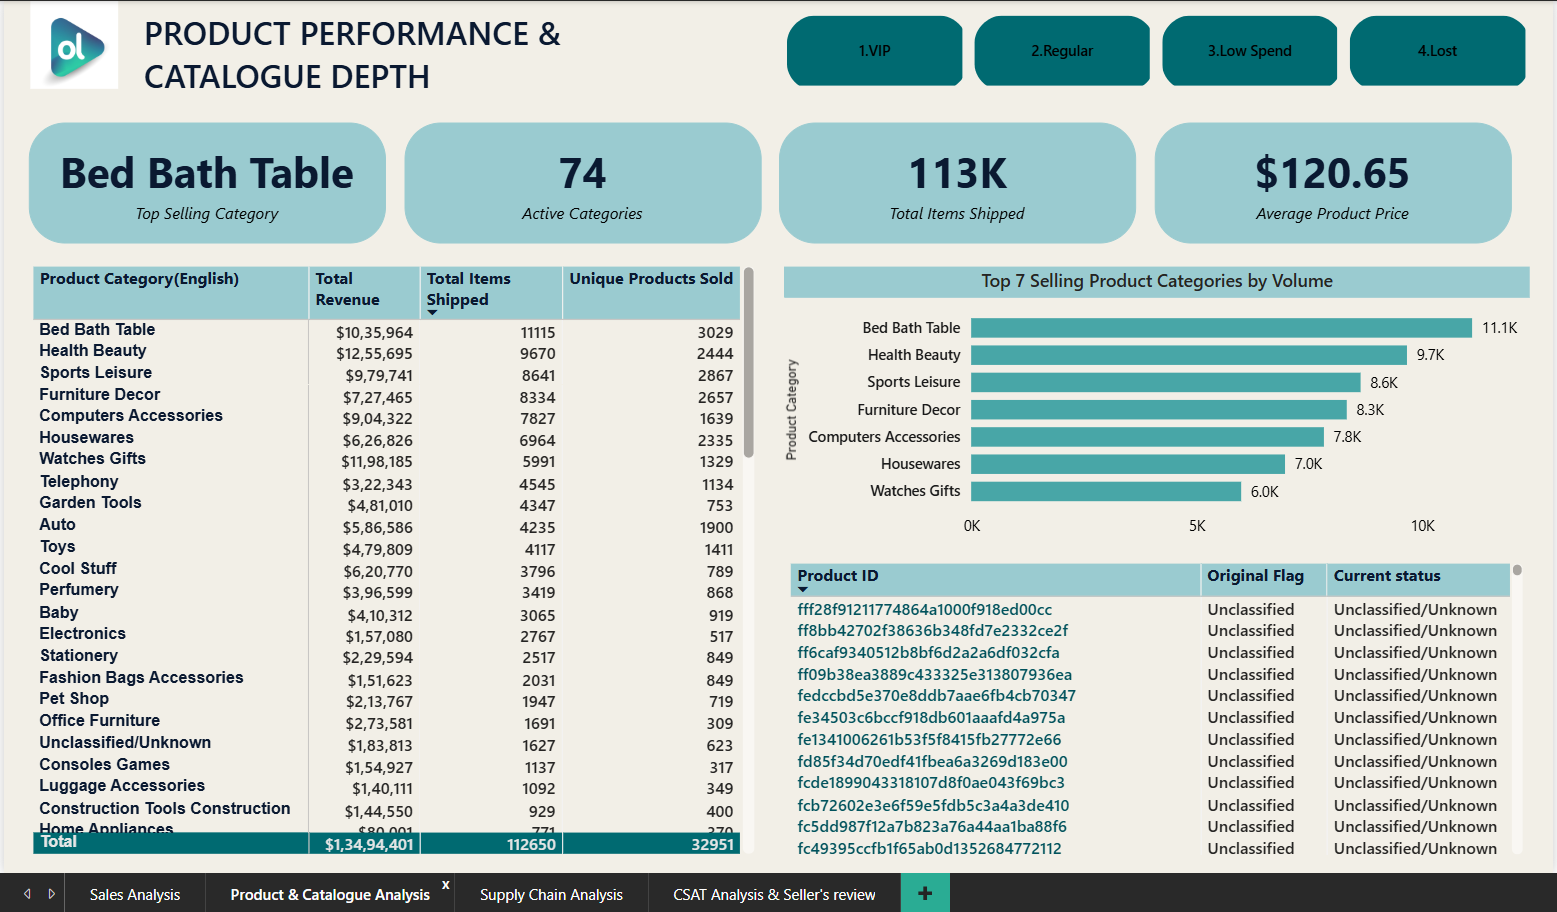

This screenshot's page, from the dashboard's own definition file:
{"tool":"powerbi","page":{"name":"Product & Catalogue Analysis","canvas":[1280,720],"ordinal":1},"visuals":[{"type":"card","fields":{"Values":["Count(clean_products.product_category_name)"]},"box":[330,100,295,100],"z":0,"group":"g1"},{"type":"pivotTable","fields":{"Rows":["clean_products.product_category_name_english"],"Values":["olist_order_items_dataset.Total Revenue","olist_order_items_dataset.Total Items Shipped","olist_order_items_dataset.Unique Products Sold"]},"box":[19.5,219.5,605.5,490.6],"z":0},{"type":"card","fields":{"Values":["olist_order_items_dataset.Total Items Shipped"]},"box":[640,100,295,100],"z":1000,"group":"g1"},{"type":"clusteredBarChart","title":"Top 7 Selling Product Categories by Volume","fields":{"Category":["clean_products.product_category_name_english"],"Y":["olist_order_items_dataset.Total Items Shipped"]},"box":[644.6,219.5,615.9,230],"z":1000},{"type":"card","fields":{"Values":["clean_products.Top Selling Category"]},"box":[20,100,295,100],"z":2000,"group":"g1"},{"type":"tableEx","title":"Unclassified Product Logs (Requires Catalog Update)","fields":{"Values":["clean_products.product_id","clean_products.product_category_name","clean_products.product_category_name_english"]},"box":[644.6,459.6,615.9,250.5],"z":2000},{"type":"advancedSlicerVisual","fields":{"Values":["clean_customer_clv.Display_Label"]},"box":[625.2,10.1,654.3,62.7],"z":3000},{"type":"card","fields":{"Values":["olist_order_items_dataset.Average Product Price"]},"box":[950,100,295,100],"z":3000,"group":"g1"},{"type":"image","box":[0,0,116.1,72.4],"z":4000},{"type":"textbox","box":[116.1,6.9,390.7,78.1],"z":5000},{"type":"group","id":"g1","title":"Group 1","box":[20,100,1225,100],"z":6000}]}

Visuals, with their boxes on the page's 1280x720 design canvas (x1, y1, x2, y2). These are canvas units, not pixel positions in the 1557x912 screenshot, which may show the page scaled, cropped or inside an application window:
card - Count(clean_products.product_category_name): l=330, t=100, r=625, b=200
pivotTable - clean_products.product_category_name_english x olist_order_items_dataset.Total Revenue: l=20, t=220, r=625, b=710
card - olist_order_items_dataset.Total Items Shipped: l=640, t=100, r=935, b=200
"Top 7 Selling Product Categories by Volume" clusteredBarChart: l=645, t=220, r=1260, b=450
card - clean_products.Top Selling Category: l=20, t=100, r=315, b=200
"Unclassified Product Logs (Requires Catalog Update)" tableEx: l=645, t=460, r=1260, b=710
advancedSlicerVisual - clean_customer_clv.Display_Label: l=625, t=10, r=1280, b=73
card - olist_order_items_dataset.Average Product Price: l=950, t=100, r=1245, b=200
image: l=0, t=0, r=116, b=72
textbox: l=116, t=7, r=507, b=85
"Group 1" group: l=20, t=100, r=1245, b=200
